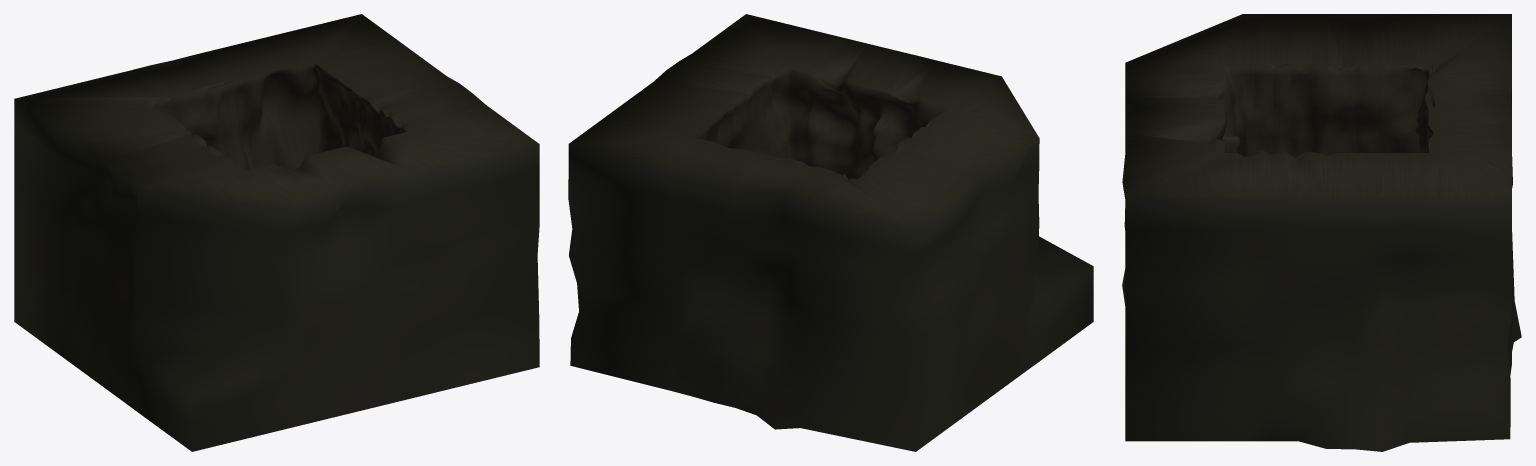
The model's file is cavewall.fbx.
3 renders of one model, left to right at view 1: azimuth 30°, elevation 25°; view 2: azimuth 150°, elevation 25°; view 3: azimuth 270°, elevation 25°, orthographic. The views are drawn at different scales.
Parts seen in each view (by area): view 1: Plane.001; view 2: Plane.001; view 3: Plane.001.
Boxes of the visible parts, x1,y1,x2,y2 form: Plane.001: (14, 14, 539, 451); Plane.001: (568, 14, 1093, 451); Plane.001: (1122, 14, 1521, 451).
Size of the model in its own units: 20120 by 13072 by 17232.
